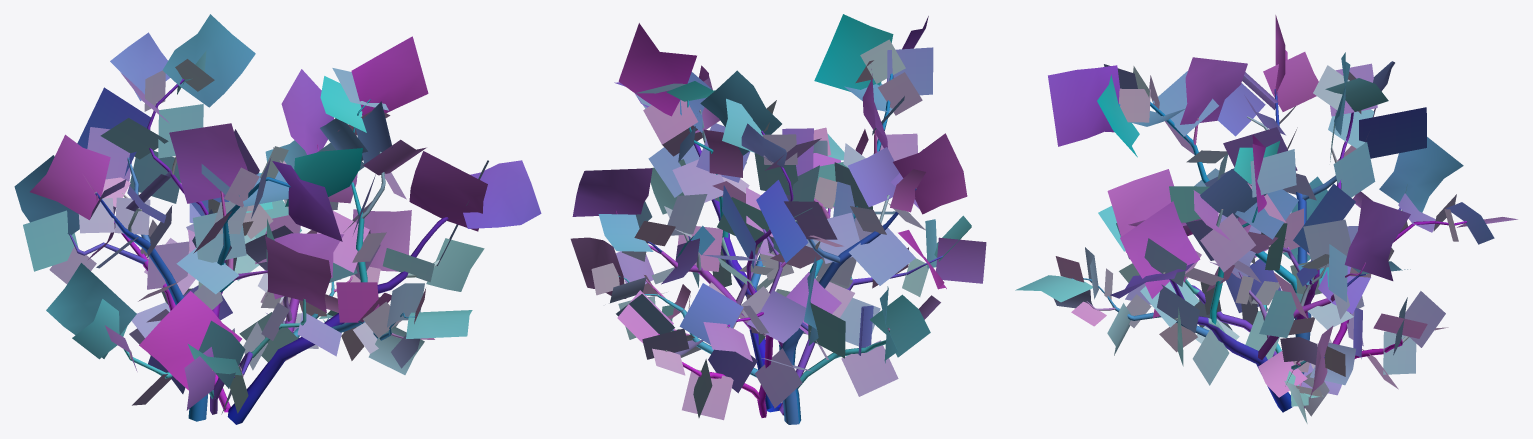
3 renders of one model, left to right at view 1: azimuth 30°, elevation 25°; view 2: azimuth 150°, elevation 25°; view 3: azimuth 270°, elevation 25°, orthographic. The views are drawn at different scales.
Parts seen in each view (by area): view 1: SM_Dandelion_01_LOD0; view 2: SM_Dandelion_01_LOD0; view 3: SM_Dandelion_01_LOD0.
Part boxes in pixels (x1,y1,x2,y2): SM_Dandelion_01_LOD0: (14,14,541,424); SM_Dandelion_01_LOD0: (570,14,986,424); SM_Dandelion_01_LOD0: (1015,15,1517,423).
Size of the model in its own units: 1.57 by 1.34 by 1.69.
